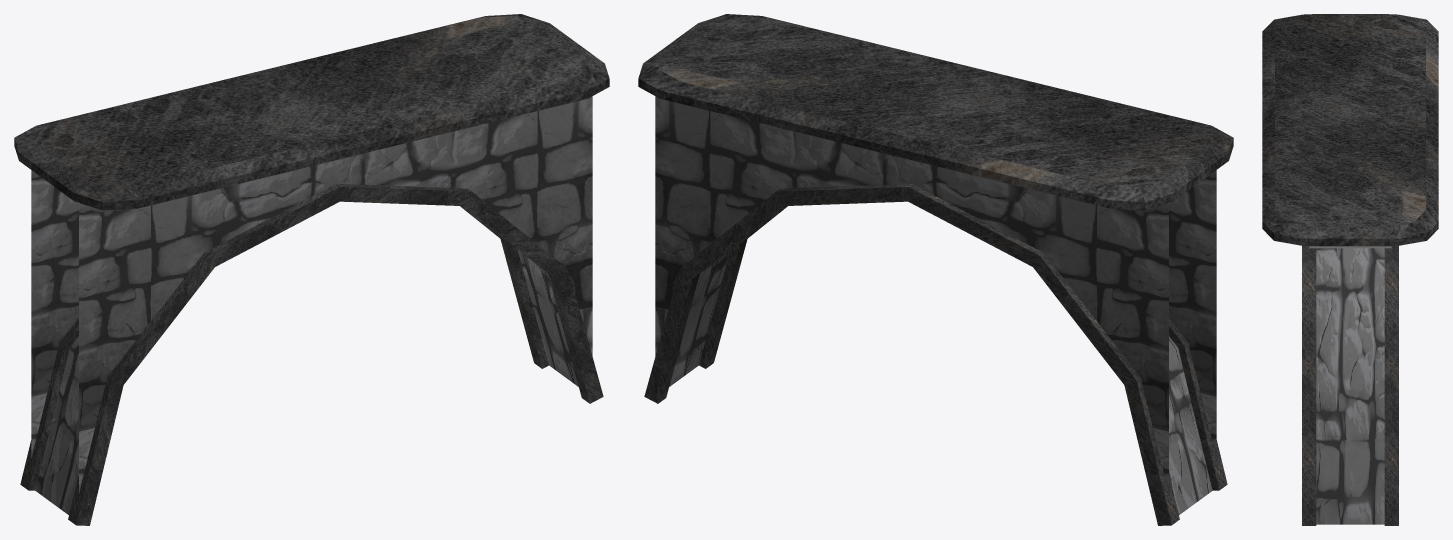
File: Arch.obj
The picture shows the model from 3 angles, left to right: view 1: azimuth 30°, elevation 25°; view 2: azimuth 150°, elevation 25°; view 3: azimuth 270°, elevation 25°; orthographic projection. The views are drawn at different scales.
Visible parts, largest first — view 1: Arch; view 2: Arch; view 3: Arch.
Part boxes in pixels (left/top/right/bottom): Arch: left=14, top=14, right=609, bottom=525; Arch: left=638, top=14, right=1233, bottom=525; Arch: left=1262, top=14, right=1438, bottom=525.
Size of the model in its own units: 2.07 by 1.28 by 0.6878.
